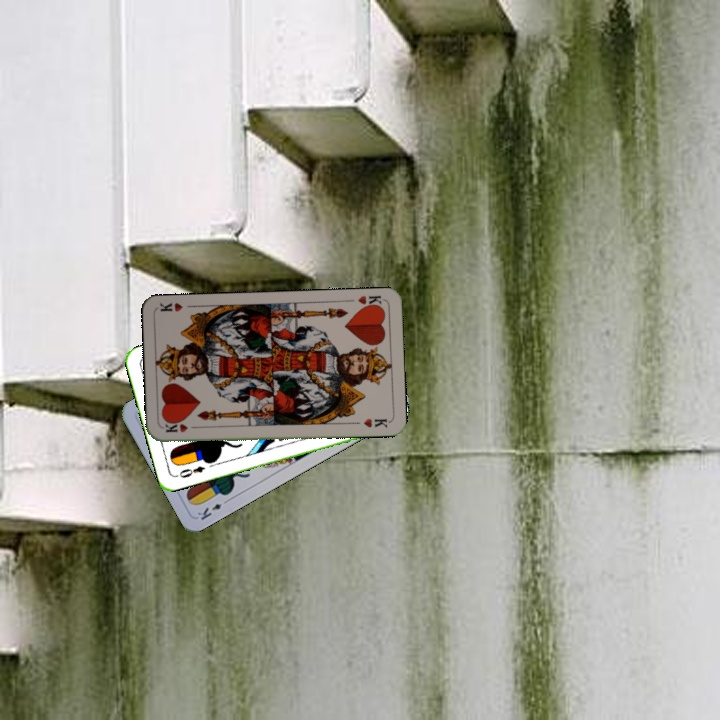EK: (193, 495, 232, 523)
EO: (172, 462, 207, 480)
HK: (161, 419, 201, 435), (354, 292, 386, 311)
